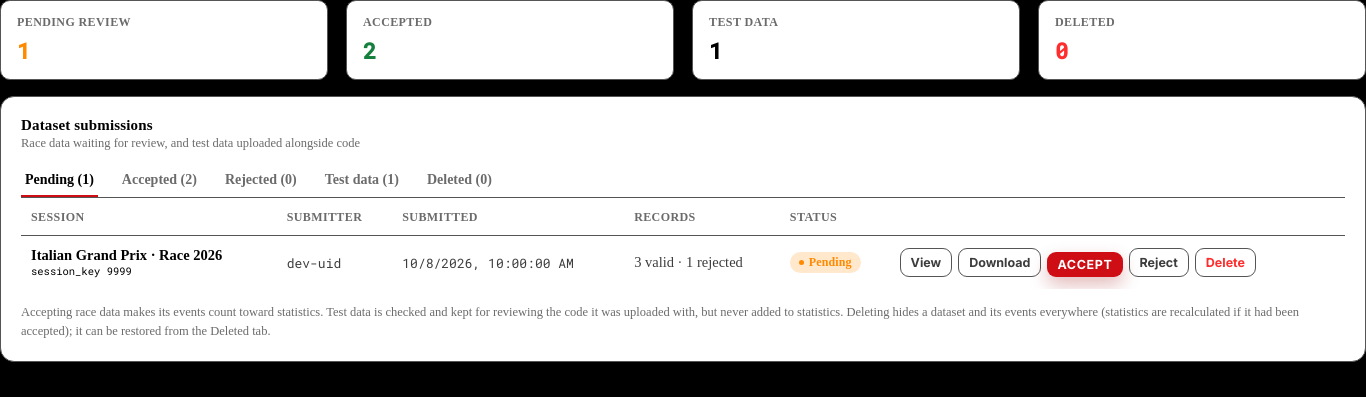
Test case: DatasetSubmissionsPanel › downloads the file and says when it is a rebuilt copy
The image size is (1366, 397).
Click the button "Download" at (1000, 262), box [958, 248, 1042, 277]
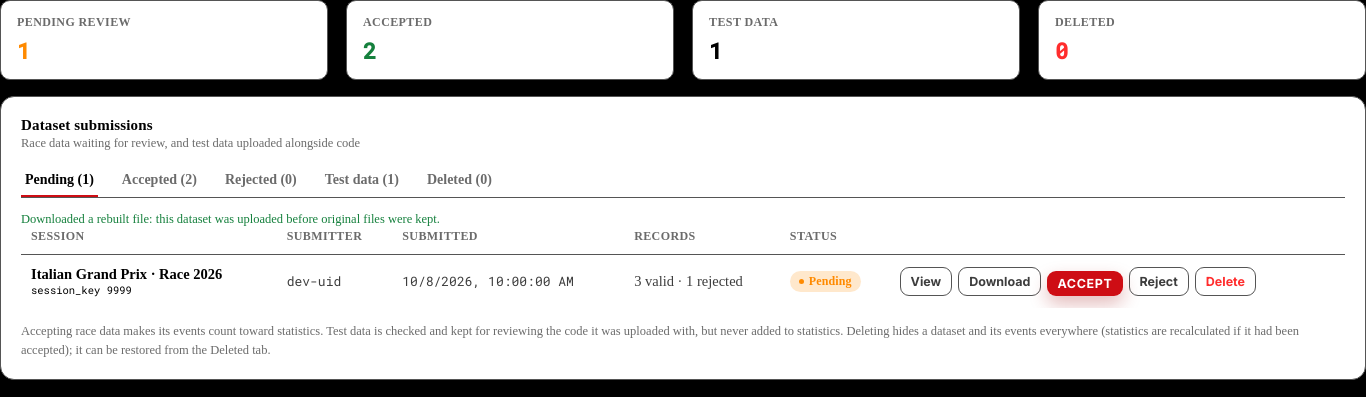
expect the message shows "Downloaded a rebuilt file": met, box [21, 212, 440, 226]
